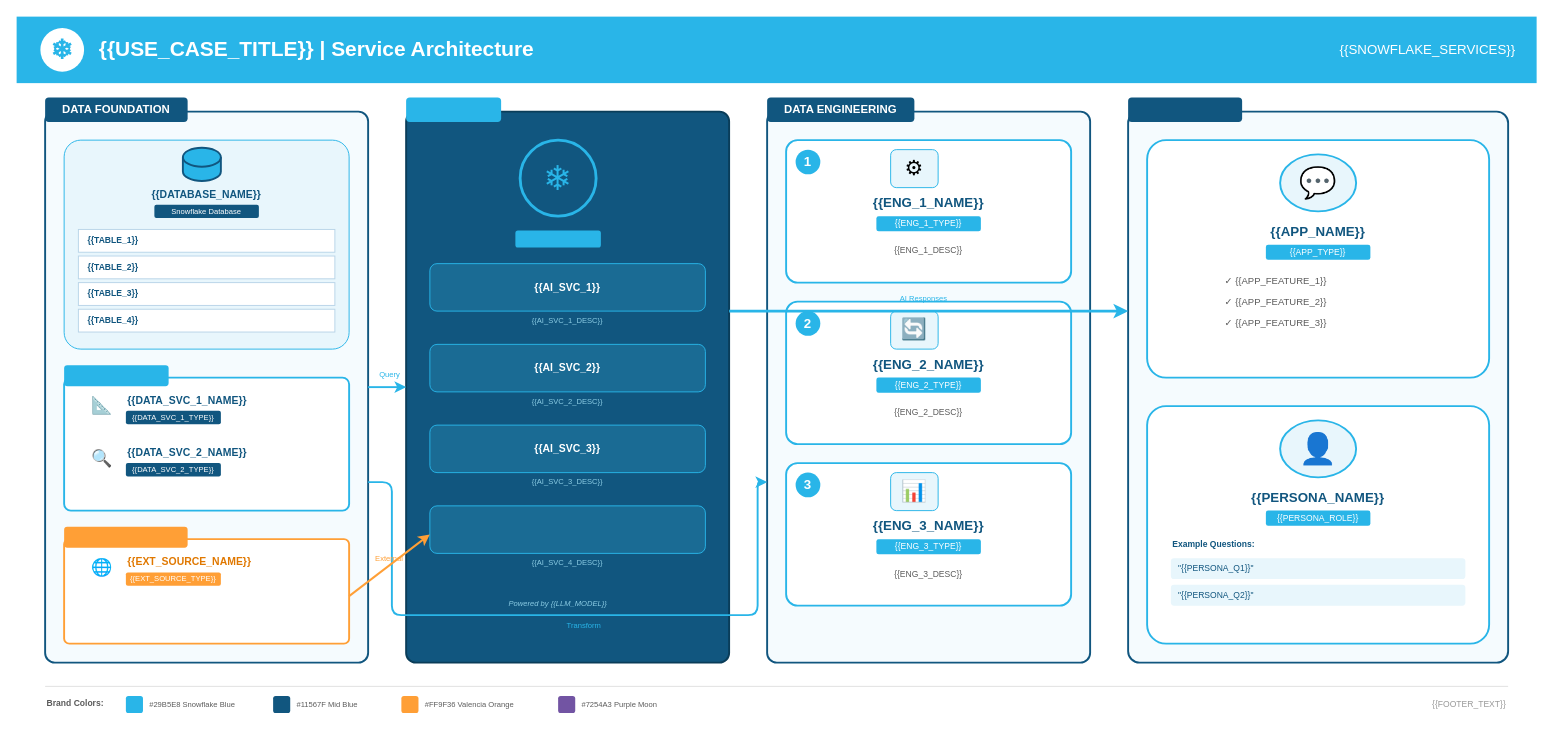
Image size: 1552x729. Some labels were removed from this diagram. The centre of each missing label's shape, as x and y in pixels:
"AI SERVICES" goes at (x=557, y=238).
"APPLICATIONS" goes at (x=1185, y=109).
"CORTEX AI" goes at (x=453, y=109).
"DATA SERVICES" goes at (x=116, y=375).
"EXTERNAL SOURCES" goes at (x=125, y=536).
"{{AI_SVC_4}}" goes at (x=567, y=529).
